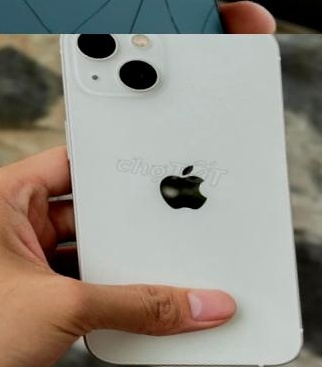physical_damage: (0, 0, 304, 34)
